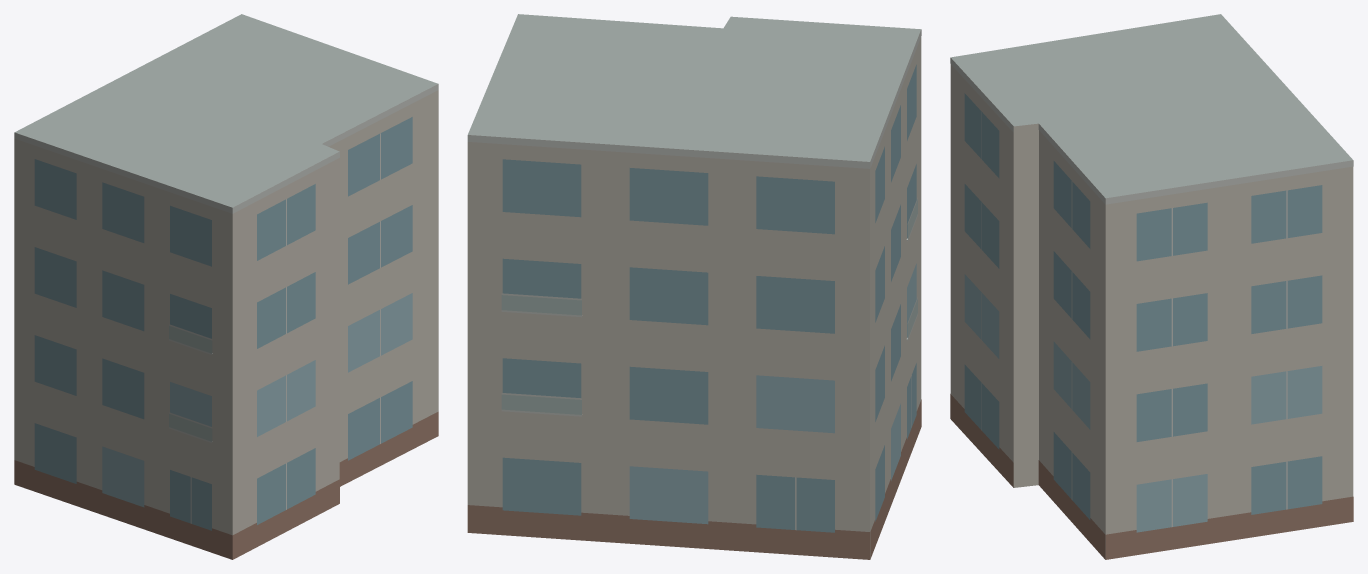
Rendered from survey-upis-32958278.glb.
The picture shows the model from 3 angles, left to right: view 1: azimuth 30°, elevation 25°; view 2: azimuth 150°, elevation 25°; view 3: azimuth 270°, elevation 25°; orthographic projection. The views are drawn at different scales.
Parts seen in each view (by area): view 1: survey-upis-32958278.tmp; view 2: survey-upis-32958278.tmp; view 3: survey-upis-32958278.tmp.
Part boxes in pixels (bbox=[...]): survey-upis-32958278.tmp: bbox=[14, 14, 438, 559]; survey-upis-32958278.tmp: bbox=[467, 14, 921, 559]; survey-upis-32958278.tmp: bbox=[950, 14, 1353, 559].
Bounding box in the file's own units: 15.26 × 13.95 × 14.1.
